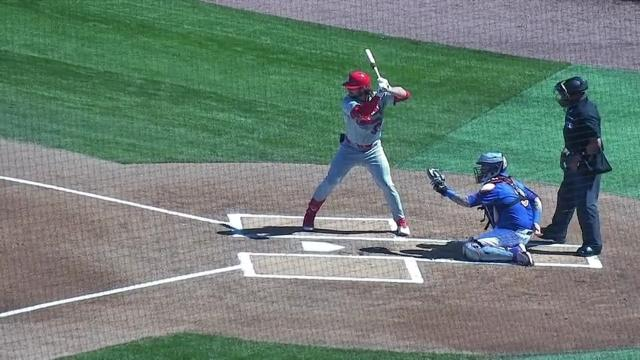baseball bat: (365, 47, 381, 78)
